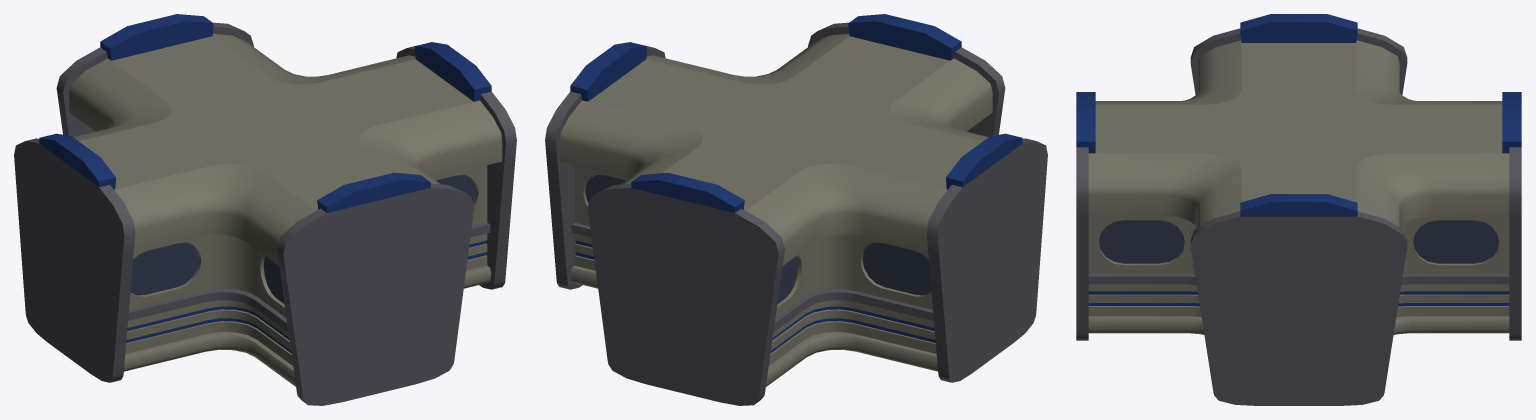
The model's file is LPSciFi_Doorway4Way.fbx.
3 views of the same model, side by side, from view 1: azimuth 30°, elevation 25°; view 2: azimuth 150°, elevation 25°; view 3: azimuth 270°, elevation 25° (orthographic).
Visible parts, largest first — view 1: Doorway4Way; view 2: Doorway4Way; view 3: Doorway4Way.
Boxes of the visible parts, x1=… form: Doorway4Way: x1=14, y1=14, x2=516, y2=405; Doorway4Way: x1=545, y1=14, x2=1047, y2=405; Doorway4Way: x1=1076, y1=14, x2=1521, y2=405.
Bounding box in the file's own units: 800 × 404 × 800.
